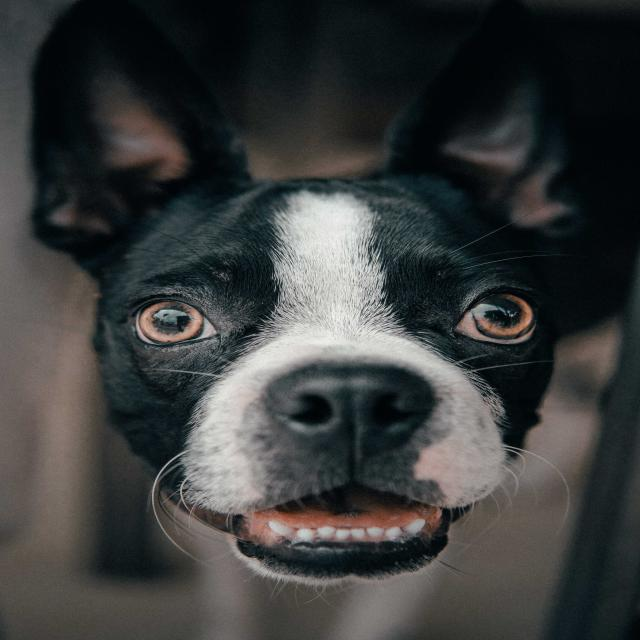dogs: (24, 0, 596, 588)
